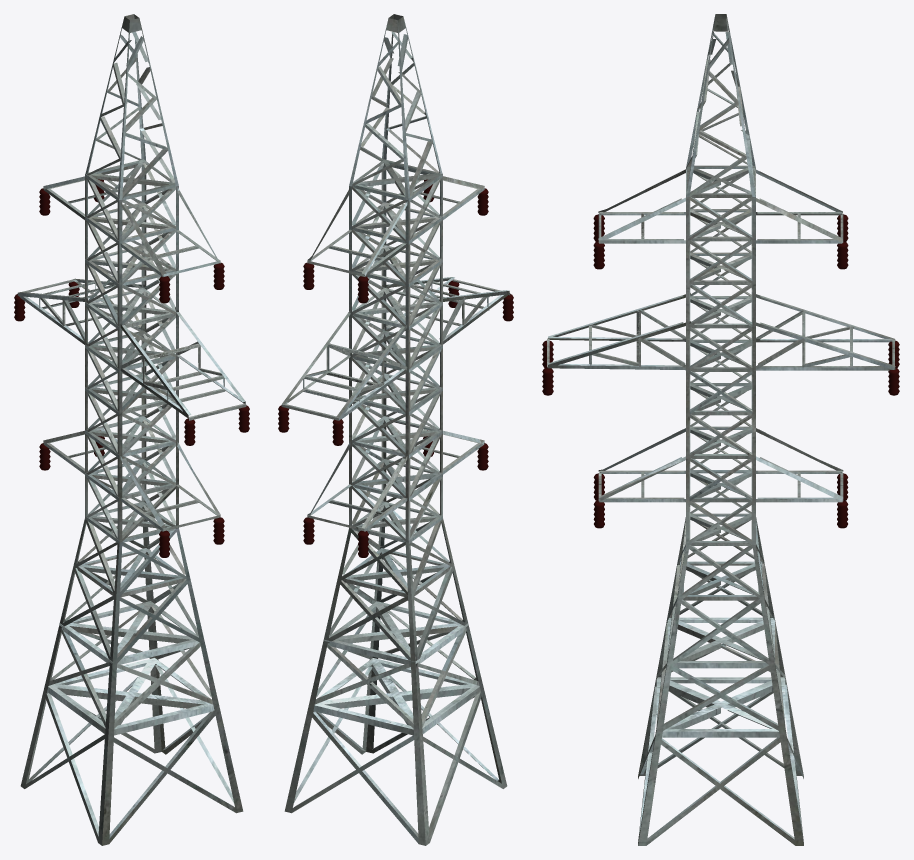
File: powerTransmissionTower_83PqyZF.glb
3 views of the same model, side by side, from view 1: azimuth 30°, elevation 25°; view 2: azimuth 150°, elevation 25°; view 3: azimuth 270°, elevation 25° (orthographic).
Visible parts, largest first — view 1: powerTransmissionTower.001, powerTransmissionTower; view 2: powerTransmissionTower.001, powerTransmissionTower; view 3: powerTransmissionTower.001, powerTransmissionTower.
Part boxes in pixels (left/top/right/bottom): powerTransmissionTower.001: left=17, top=14, right=246, bottom=845; powerTransmissionTower: left=14, top=179, right=249, bottom=557; powerTransmissionTower.001: left=281, top=14, right=510, bottom=845; powerTransmissionTower: left=278, top=179, right=513, bottom=557; powerTransmissionTower.001: left=547, top=14, right=895, bottom=845; powerTransmissionTower: left=542, top=214, right=899, bottom=528.
Bounding box in the file's own units: 16.07 × 85 × 34.64.
Materials: 2 (2 with a texture image).
